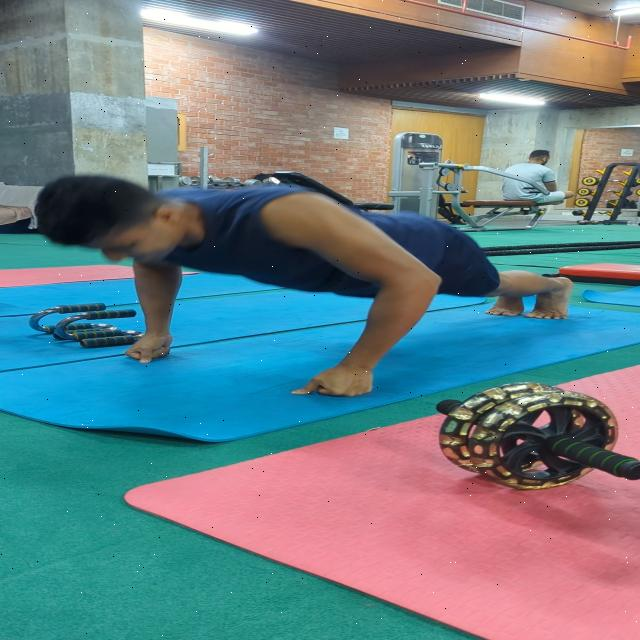Normal_PushUps: (3, 167, 584, 405)
